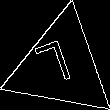L_S: (38, 37, 83, 96)
